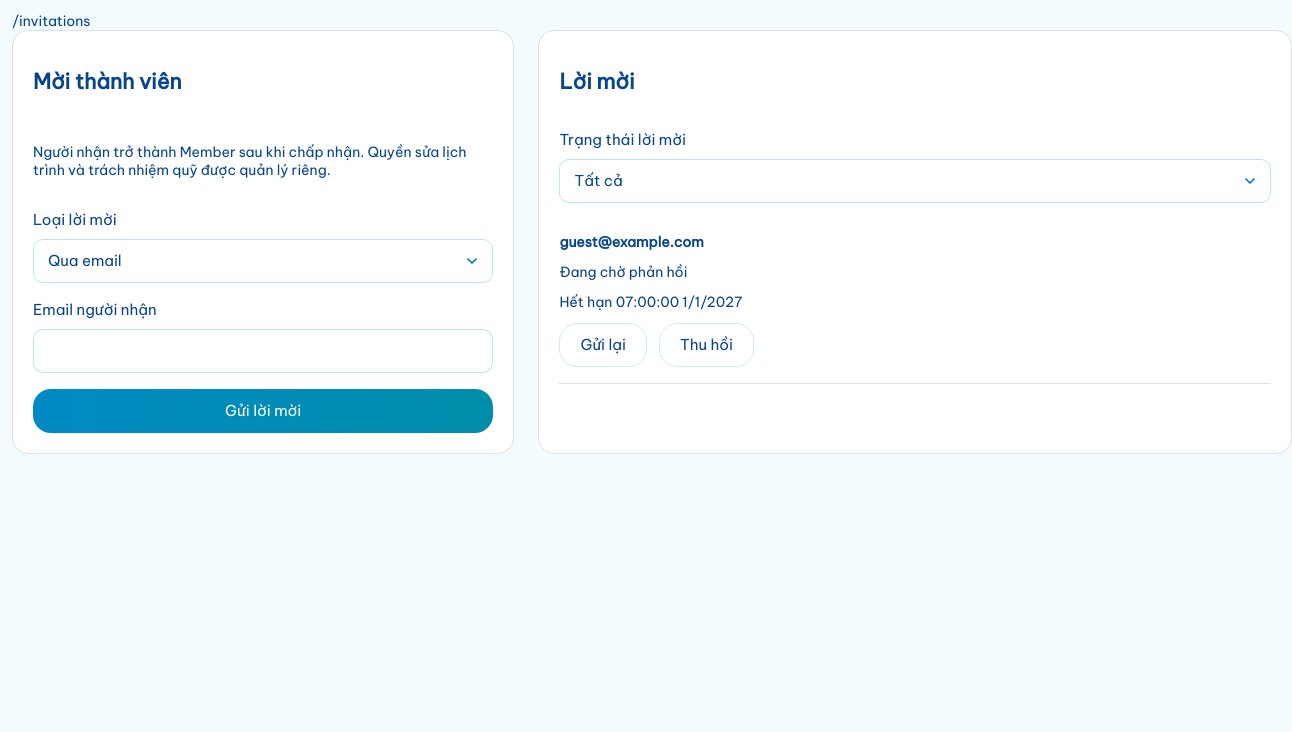
Test: Owner invitation management › normalizes email and sends current membership revision
In the field labelled "Email người nhận": (263, 351) x1=47 y1=329 x2=479 y2=373, type " Guest@Example.COM "
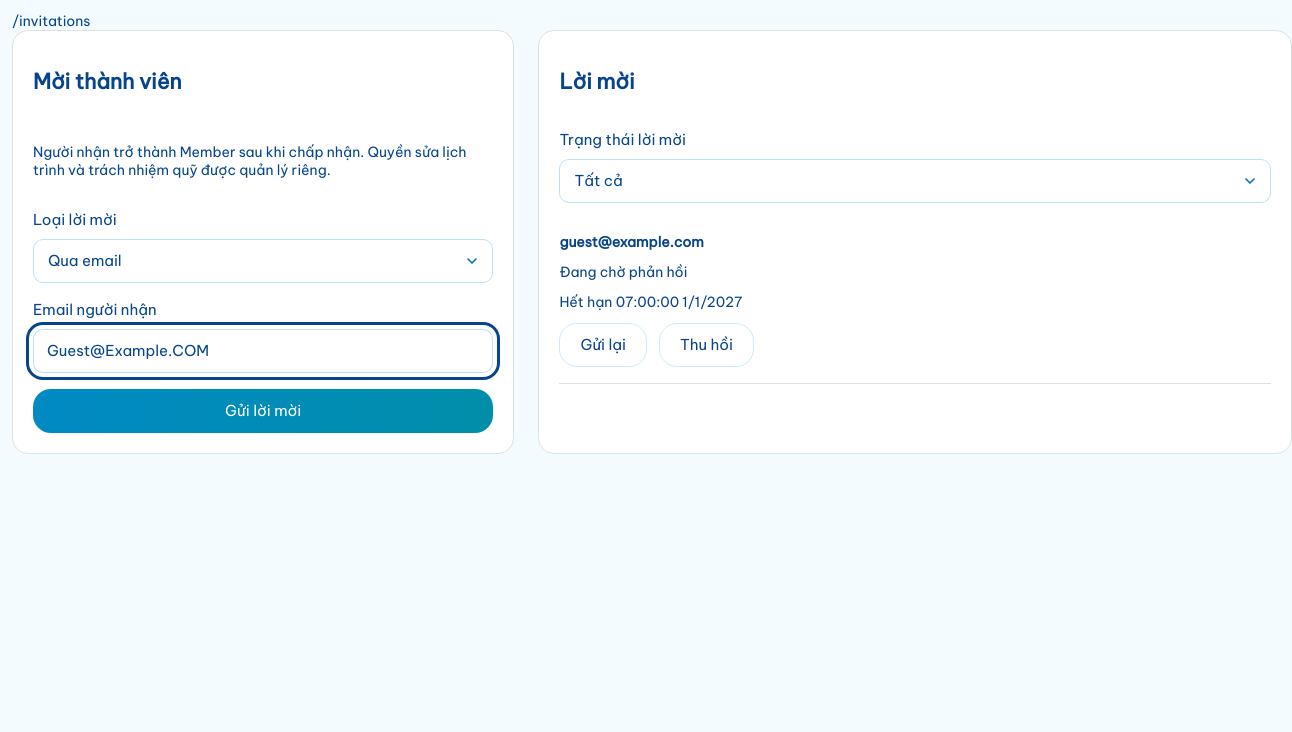
Click the button "Gửi lời mời": (263, 411) x1=33 y1=389 x2=493 y2=433
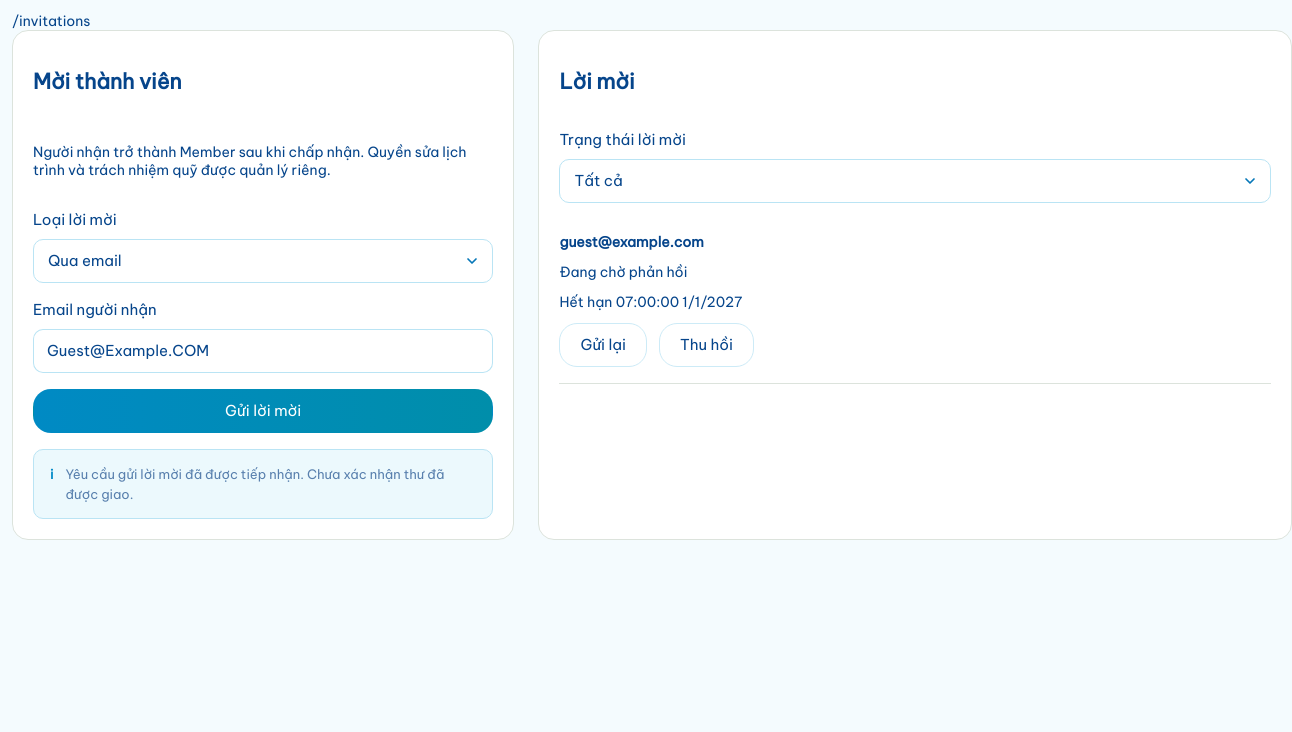
Expected: the text "Yêu cầu gửi lời mời đã được tiếp nhận" is shown, x1=65 y1=466 x2=444 y2=502
